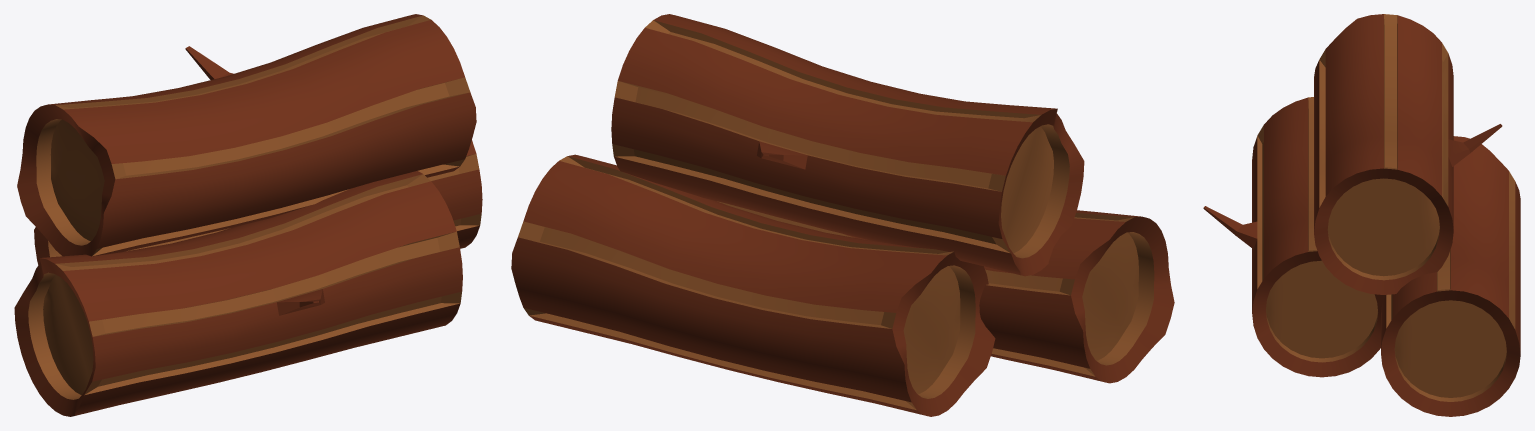
The picture shows the model from 3 angles, left to right: view 1: azimuth 30°, elevation 25°; view 2: azimuth 150°, elevation 25°; view 3: azimuth 270°, elevation 25°; orthographic projection. The views are drawn at different scales.
Visible parts, largest first — view 1: wood.002, wood.001, wood; view 2: wood, wood.002, wood.001; view 3: wood.002, wood, wood.001.
Boxes of the visible parts, box(x1,y1,x2,y2) form: wood.002: box(17, 14, 476, 256); wood.001: box(14, 171, 462, 416); wood: box(34, 140, 482, 264); wood: box(511, 154, 995, 416); wood.002: box(611, 14, 1084, 276); wood.001: box(717, 201, 1174, 383); wood.002: box(1314, 14, 1502, 294); wood: box(1381, 136, 1520, 416); wood.001: box(1203, 97, 1385, 377).
Size of the model in its own units: 875 by 467 by 588.
